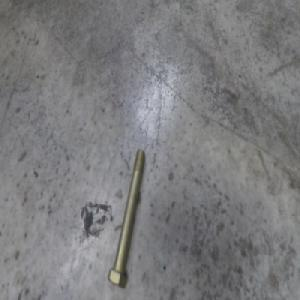Bolt: (108, 146, 145, 287)
